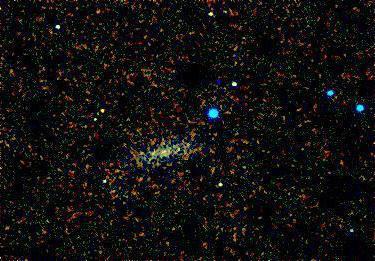star: (88, 96, 118, 126)
